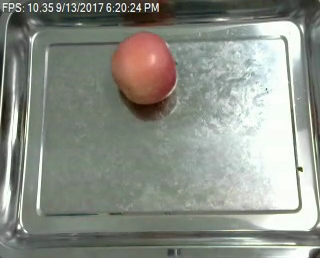Apple: (111, 28, 177, 109)
